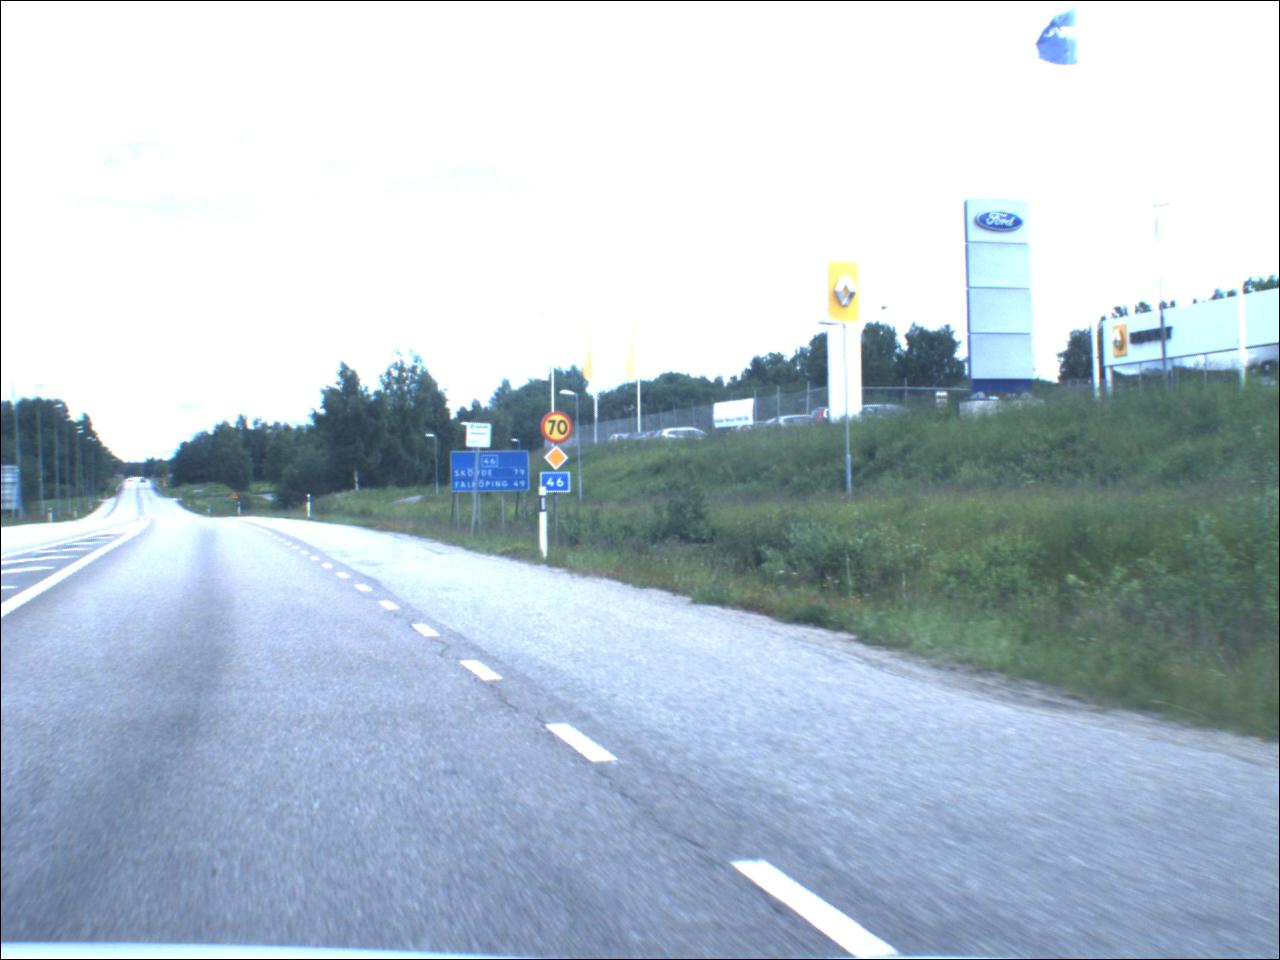70_SIGN: (542, 409, 577, 448)
PRIORITY_ROAD: (544, 446, 573, 471)
